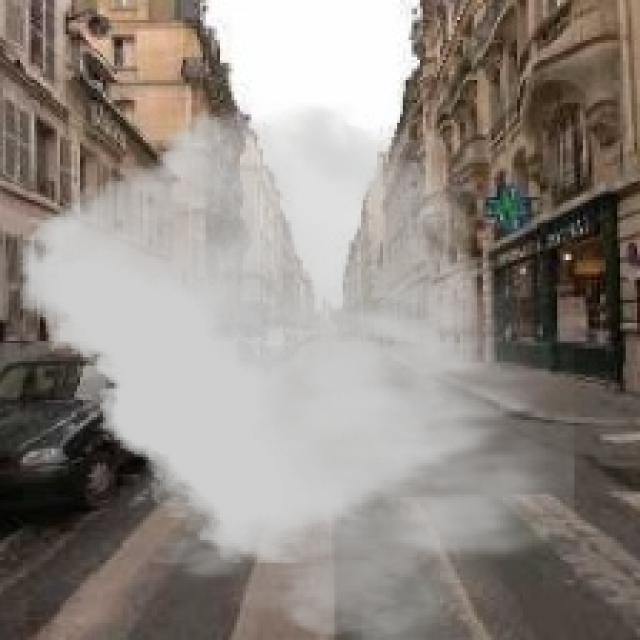smoke: (20, 103, 577, 637)
